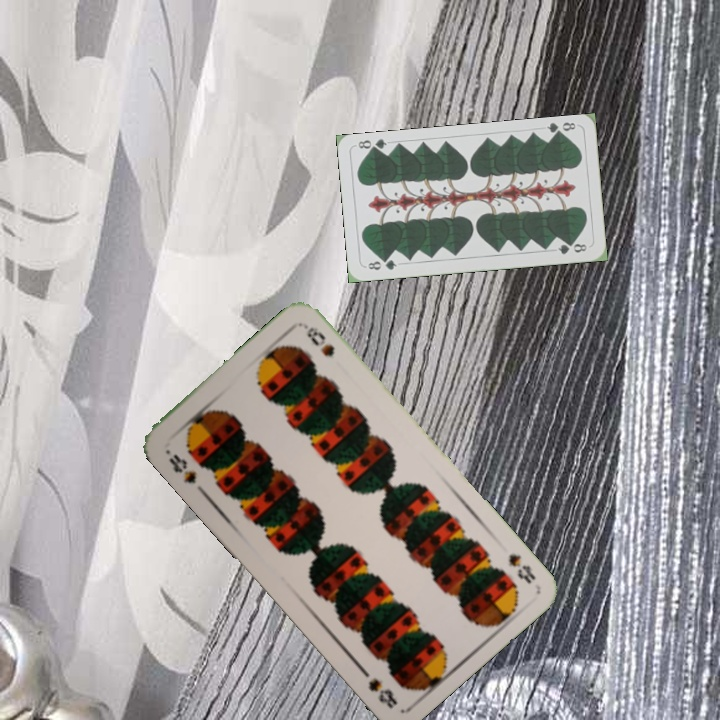G8: (543, 118, 578, 139), (364, 255, 399, 273)
S8: (164, 450, 199, 487), (504, 550, 539, 587)
